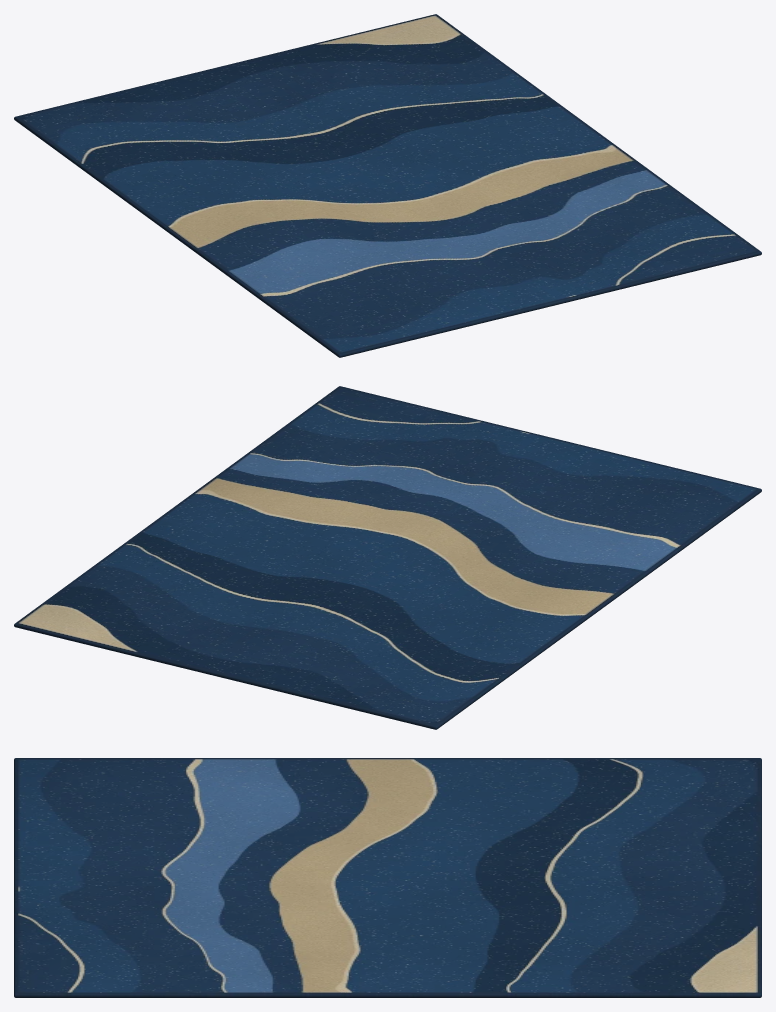
The model's file is rug-motion-wall-marine.lite.0b53dc2e.glb.
The picture shows the model from 3 angles, top to bottom: view 1: azimuth 30°, elevation 25°; view 2: azimuth 150°, elevation 25°; view 3: azimuth 270°, elevation 25°; orthographic projection. The views are drawn at different scales.
Visible parts, largest first — view 1: rug-motion-wall-marine; view 2: rug-motion-wall-marine; view 3: rug-motion-wall-marine.
Boxes of the visible parts, x1=… form: rug-motion-wall-marine: x1=14, y1=14, x2=761, y2=357; rug-motion-wall-marine: x1=14, y1=386, x2=761, y2=729; rug-motion-wall-marine: x1=14, y1=758, x2=761, y2=997.
Size of the model in its own units: 1.35 by 0.011 by 1.8.
Materials: 1 (1 with a texture image).
